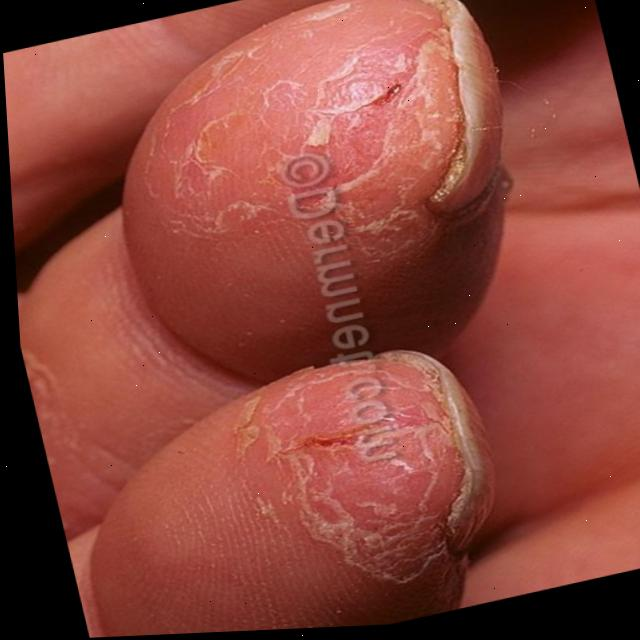Eczema: (130, 0, 509, 305), (206, 349, 480, 605)
